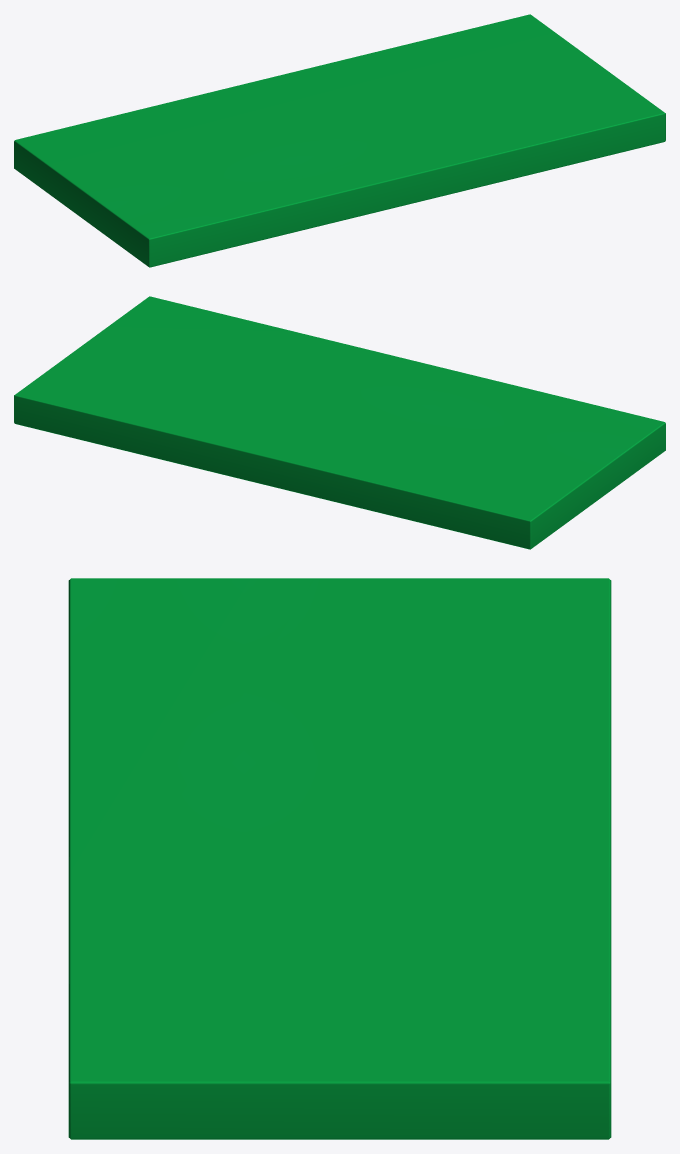
The model's file is Town_10_Base_1.glb.
3 renders of one model, top to bottom at view 1: azimuth 30°, elevation 25°; view 2: azimuth 150°, elevation 25°; view 3: azimuth 270°, elevation 25°, orthographic. The views are drawn at different scales.
Visible parts, largest first — view 1: Town_10_Base_1; view 2: Town_10_Base_1; view 3: Town_10_Base_1.
Part boxes in pixels (x1,y1,x2,y2): Town_10_Base_1: (14,14,665,267); Town_10_Base_1: (14,296,665,549); Town_10_Base_1: (68,578,611,1139).
Bounding box in the file's own units: 21.13 × 1.15 × 9.59.
Materials: 1 (1 with a texture image).
